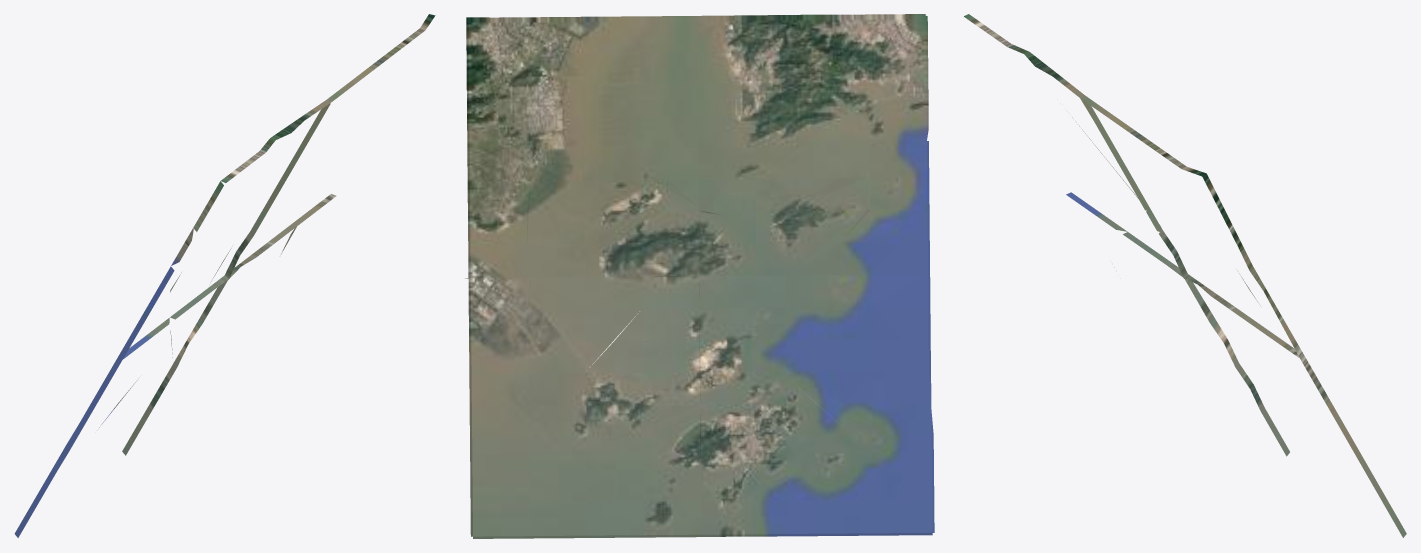
The picture shows the model from 3 angles, left to right: view 1: azimuth 30°, elevation 25°; view 2: azimuth 150°, elevation 25°; view 3: azimuth 270°, elevation 25°; orthographic projection. The views are drawn at different scales.
Bounding box in the file's own units: 39467 × 35218 × 34076.
Materials: 1 (1 with a texture image).
